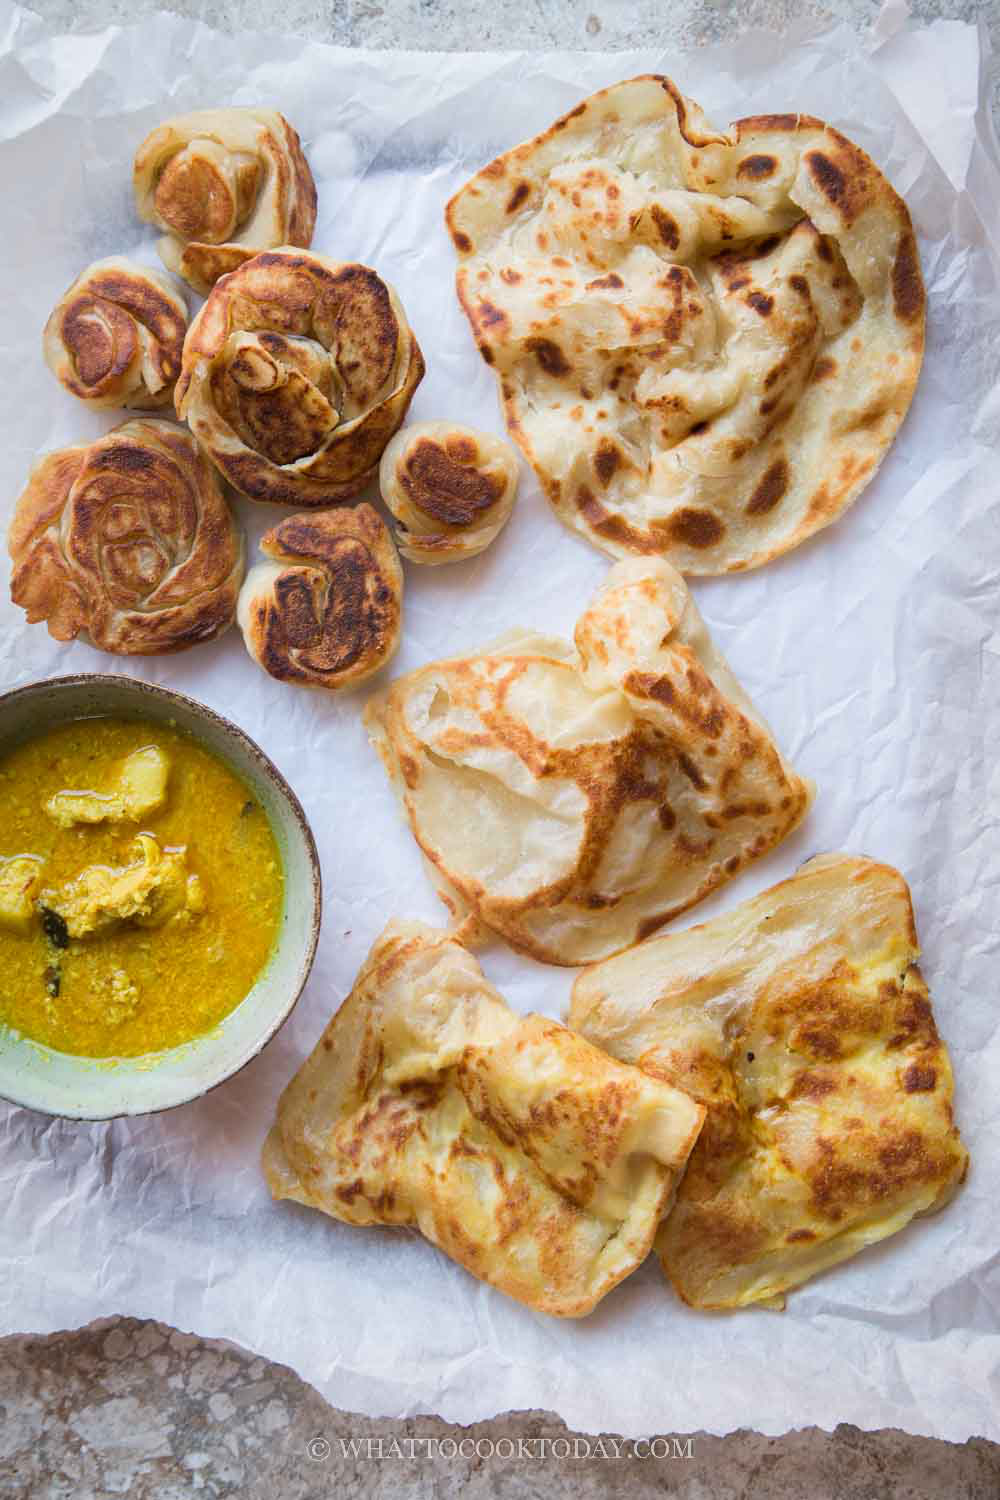Prata: (419, 62, 970, 588), (232, 944, 715, 1339), (581, 872, 956, 1294), (366, 565, 816, 911), (163, 232, 417, 496), (16, 419, 234, 656), (232, 506, 427, 679), (35, 251, 195, 424), (129, 107, 316, 250)
